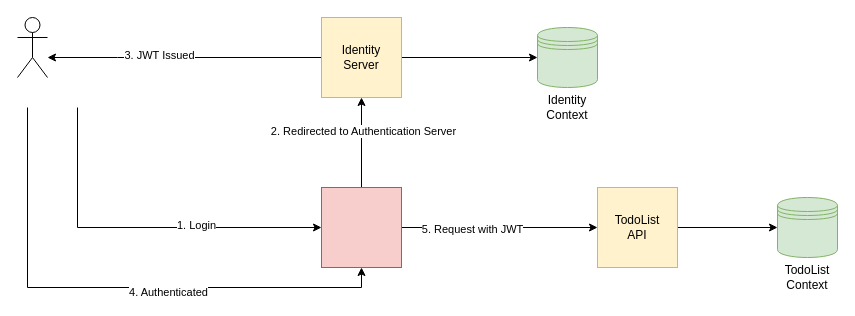
This 855x316 diagram has some shape labels left out. Each missing label, with the centre of its shape:
"TodoList UI" goes at point 361,227.
"User" goes at point 32,47.
